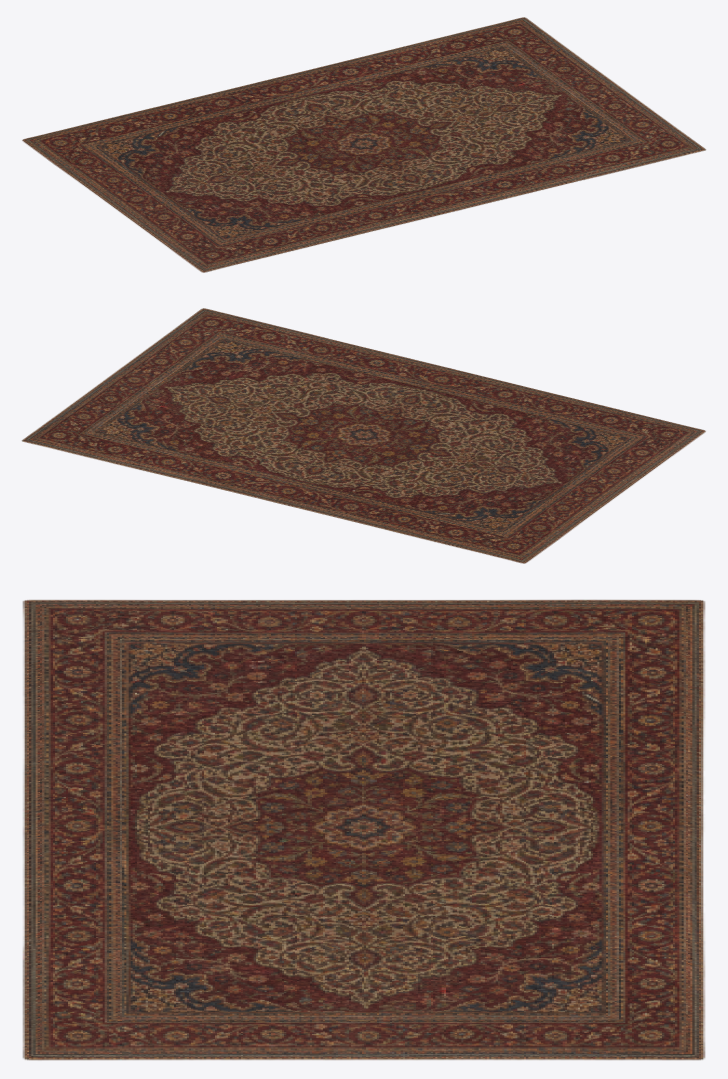
The model's file is level_castle_library_rug.glb.
3 renders of one model, top to bottom at view 1: azimuth 30°, elevation 25°; view 2: azimuth 150°, elevation 25°; view 3: azimuth 270°, elevation 25°, orthographic. The views are drawn at different scales.
Parts seen in each view (by area): view 1: carpet_mp_1; view 2: carpet_mp_1; view 3: carpet_mp_1.
Part boxes in pixels (x1,y1,x2,y2): carpet_mp_1: [22, 17, 705, 272]; carpet_mp_1: [22, 308, 705, 563]; carpet_mp_1: [22, 599, 705, 1060].
Bounding box in the file's own units: 3.23 × 0.0102 × 2.04.
1 material, 1 textured.
